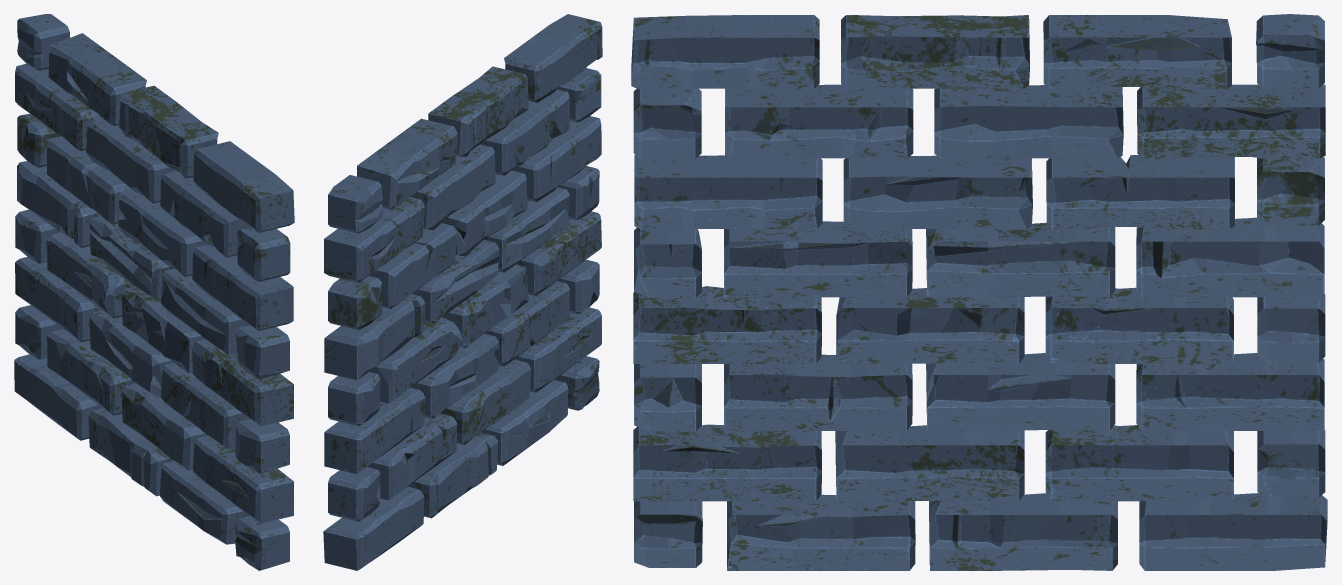
File: Sciana.fbx
The picture shows the model from 3 angles, left to right: view 1: azimuth 30°, elevation 25°; view 2: azimuth 150°, elevation 25°; view 3: azimuth 270°, elevation 25°; orthographic projection. The views are drawn at different scales.
Parts seen in each view (by area): view 1: Sciana; view 2: Sciana; view 3: Sciana.
Boxes of the visible parts, x1,y1,x2,y2 form: Sciana: (14,14,294,570); Sciana: (323,14,602,570); Sciana: (631,14,1327,570).
Bounding box in the file's own units: 234 × 2000 × 2355.
